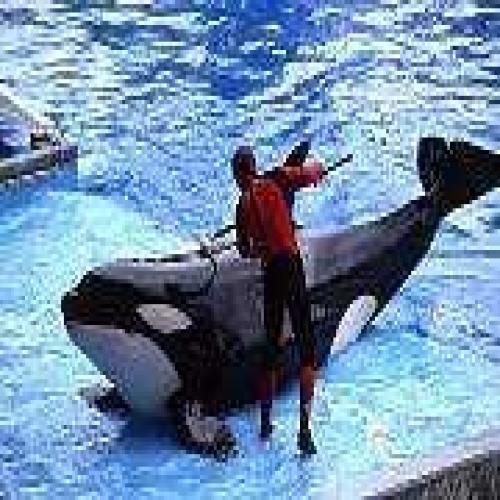killer_whale-endangered: (67, 139, 500, 444)
